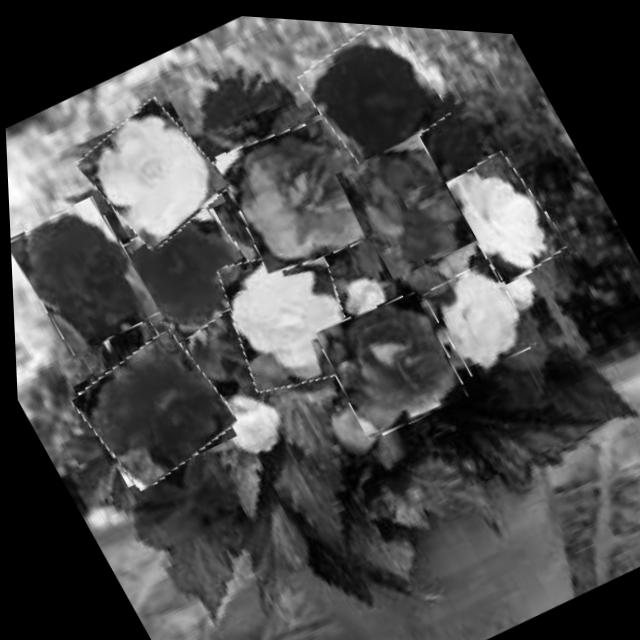Flower: (205, 93, 398, 285), (198, 222, 374, 407), (61, 319, 242, 498), (66, 85, 236, 259), (95, 184, 267, 354), (308, 277, 471, 442), (7, 190, 160, 363), (291, 15, 456, 174), (332, 123, 479, 281), (436, 137, 569, 284), (417, 247, 537, 375)
